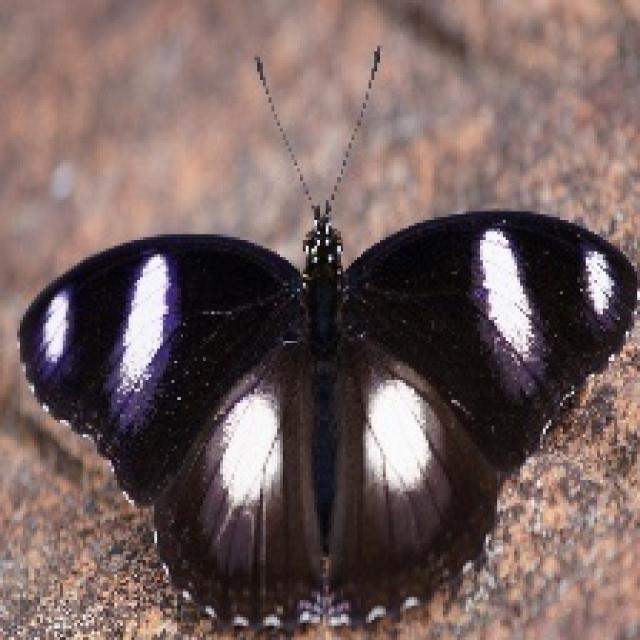butterfly: (23, 49, 638, 625)
